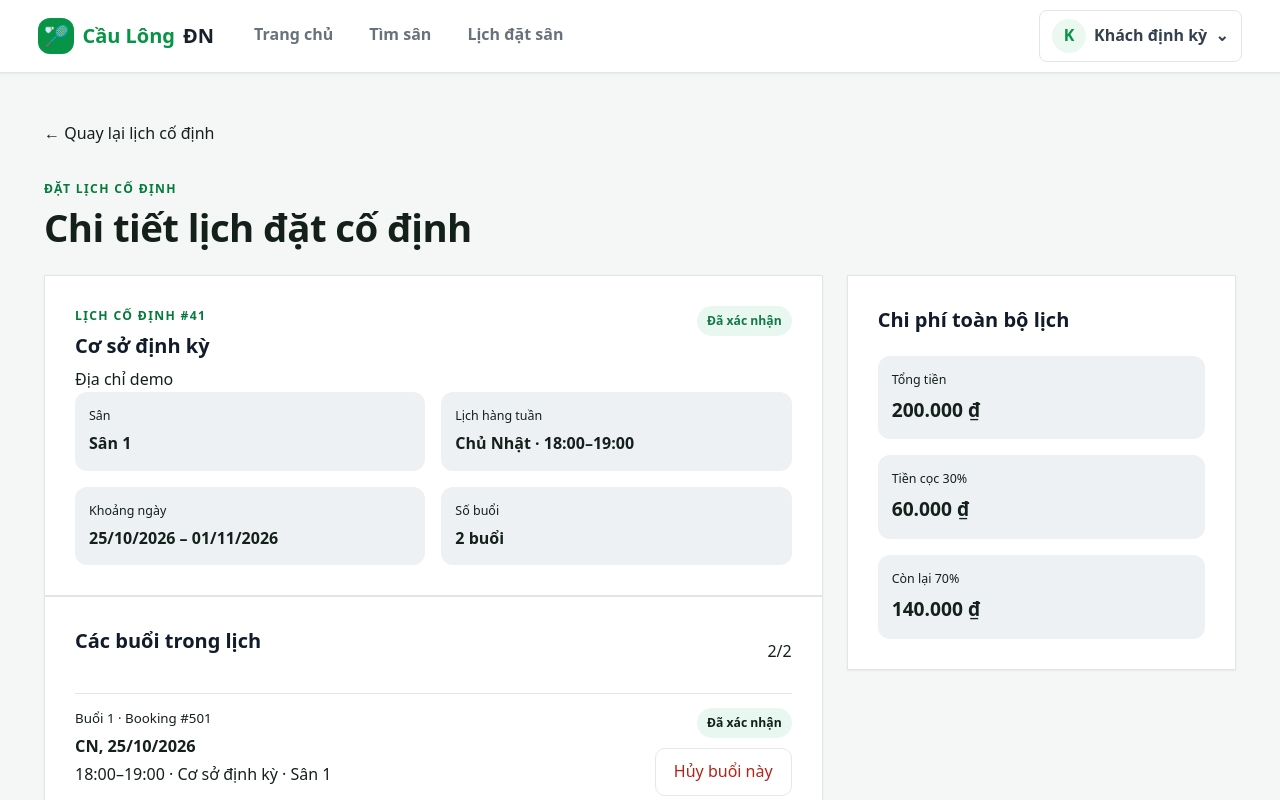
Scenario: recovers a 409 from the authoritative cancelled occurrence
The image size is (1280, 800).
Click the button "Hủy buổi này": (723, 772) [655,748,792,796]
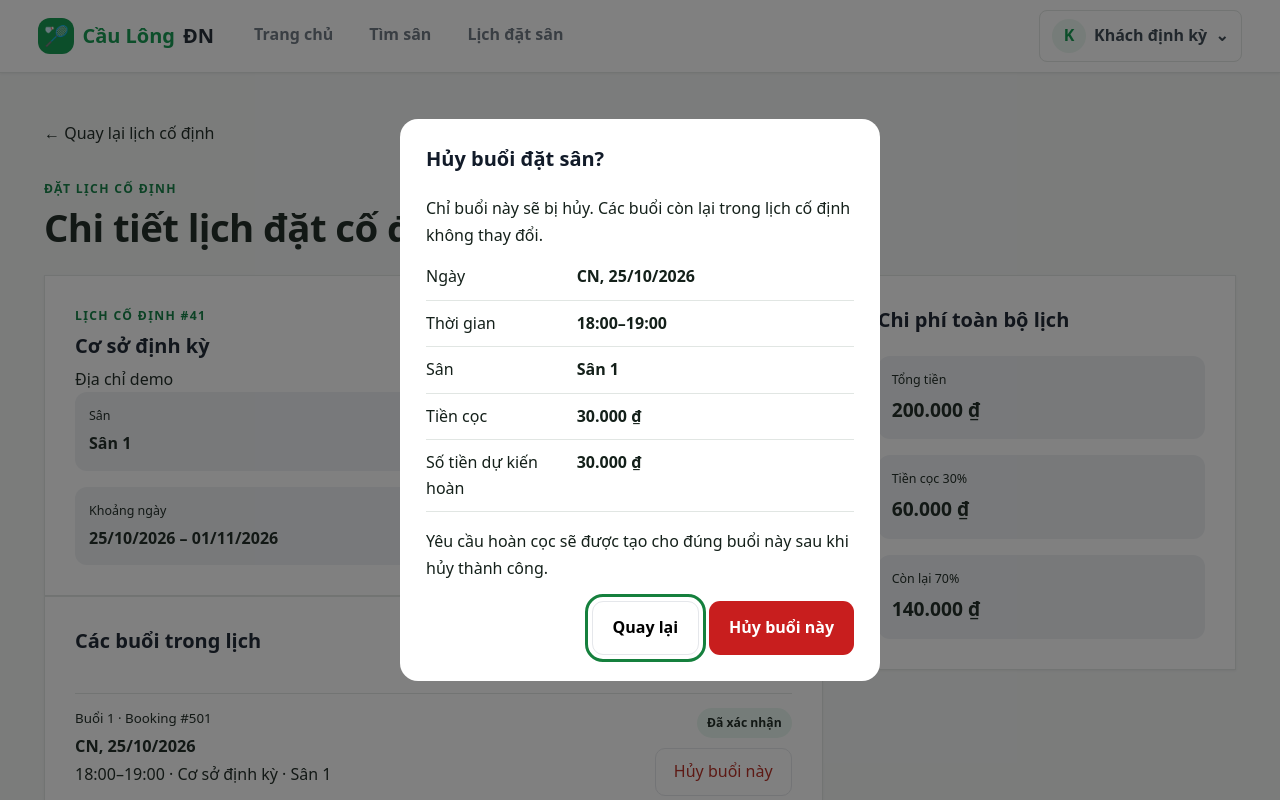
Click the button with class "destructive": (782, 628) [709,601,854,655]
(page scrolled)
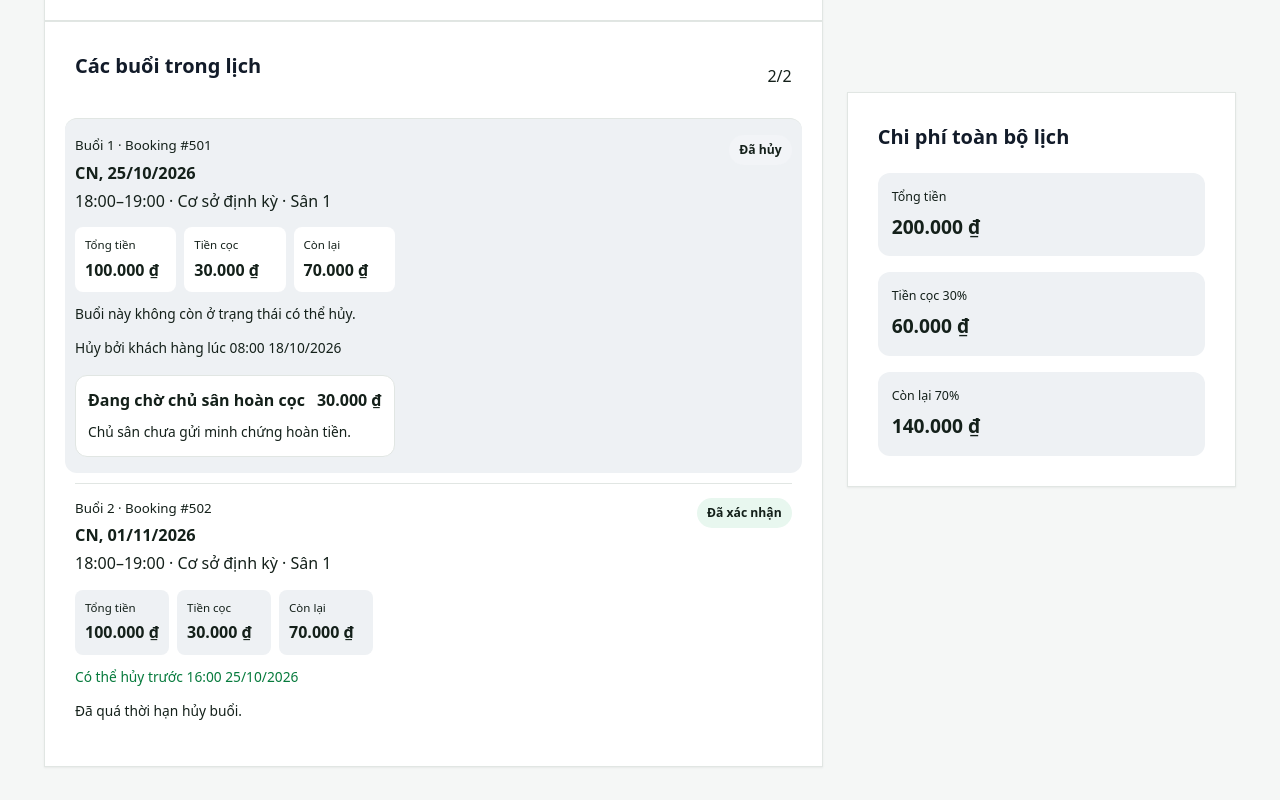
Expected: the text "Đang chờ chủ sân hoàn cọc" is shown, [88,388,305,413]
